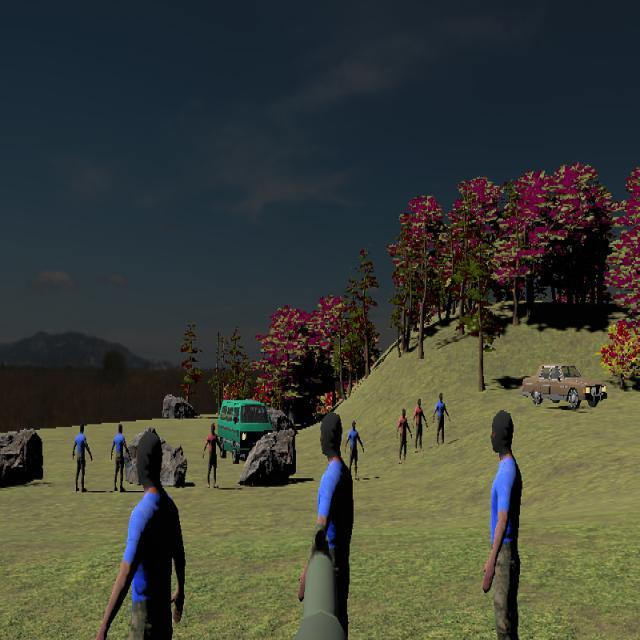Human: (98, 429, 186, 639), (300, 409, 355, 640), (484, 406, 524, 640), (72, 423, 92, 492), (111, 423, 131, 492), (203, 424, 223, 489), (345, 420, 364, 480), (433, 392, 450, 447), (412, 397, 428, 455)
car: (520, 363, 608, 409), (214, 398, 274, 465)
